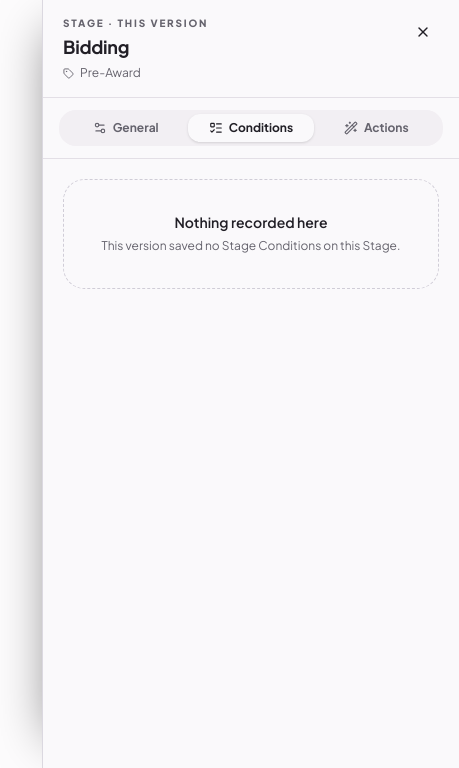
Test case: FlowVersionStagePanel › expands a Group Task action's assignees and checklist, matching the editor's own detail view
The width and height of the screenshot is (459, 768).
Click the tab "Actions": (376, 128) left=314, top=114, right=439, bottom=142
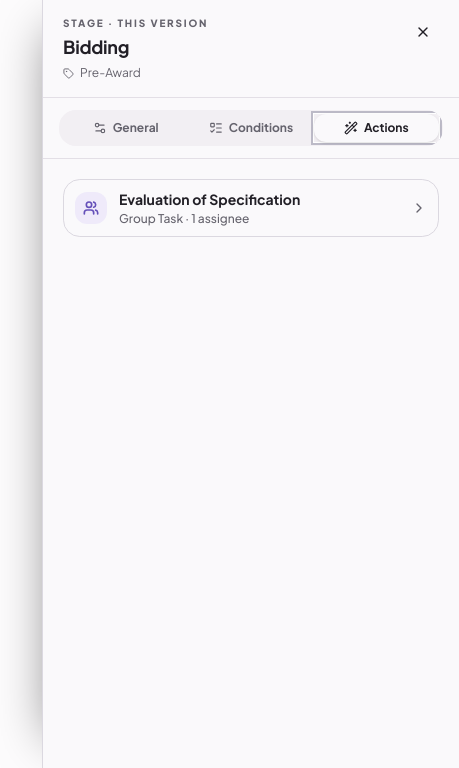
Expected: the text "Check the spec." is not shown
Click the button "Evaluation of Specification Group Task · 1 assignee": (251, 208) left=63, top=179, right=439, bottom=237
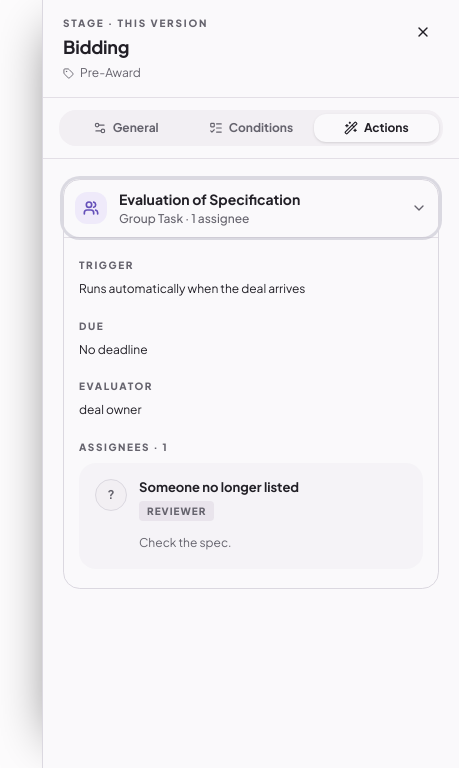
Expected: the text "Check the spec." is shown, left=139, top=535, right=232, bottom=550
Expected: the text "Reviewer" is shown, left=139, top=501, right=214, bottom=521
